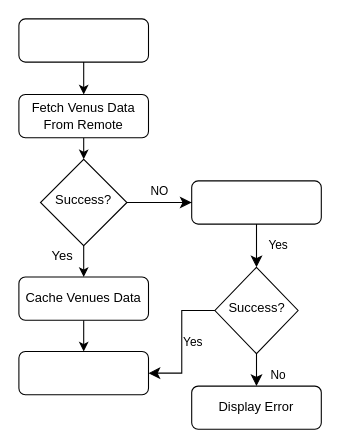
Image size: 340x448. Some labels were removed from this diagram. Each missing label, with the centre of its shape:
"Display Venus List" belongs at point (83, 372).
"Load Venus From Cache" belongs at point (256, 202).
"Show Venues List Screen" belongs at point (83, 40).
